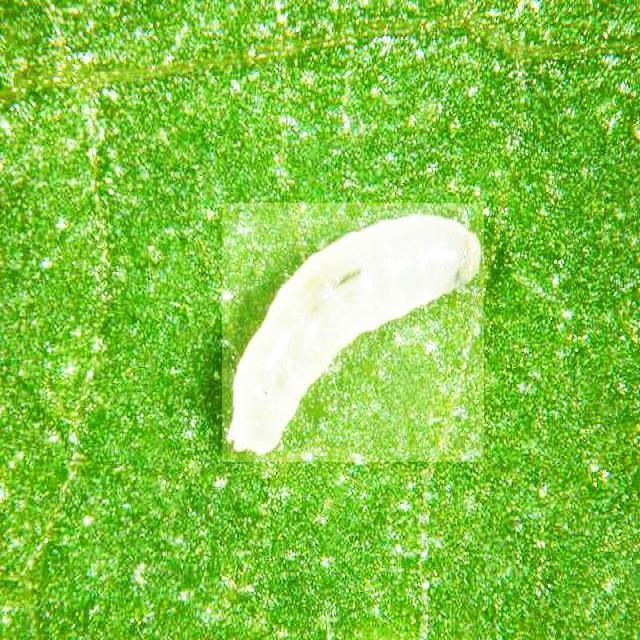whorl-maggot: (222, 203, 484, 462)
